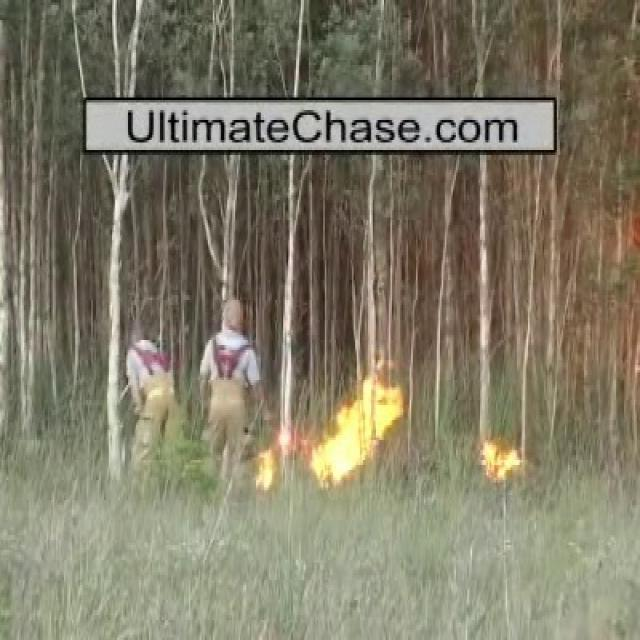fire: (308, 373, 402, 492), (477, 427, 516, 476)
